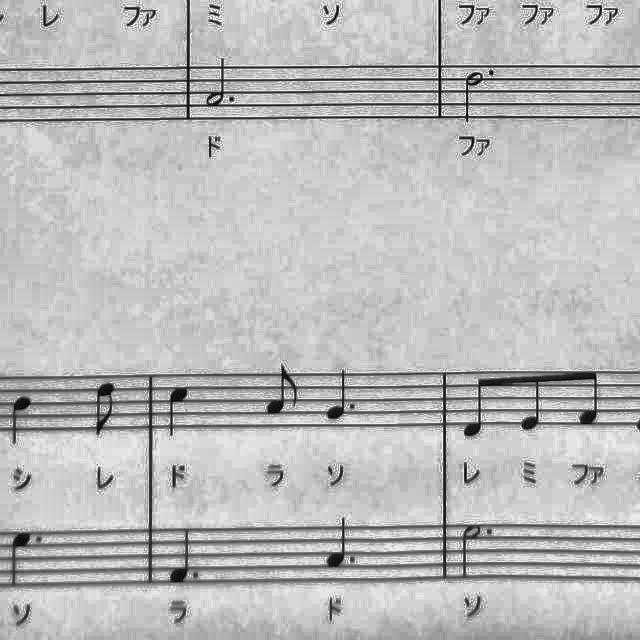Eighth-note: (455, 371, 493, 443), (260, 361, 304, 421), (517, 371, 553, 437), (572, 366, 606, 434), (88, 380, 124, 444)
Half-dot: (455, 520, 497, 584), (459, 63, 501, 125), (202, 54, 242, 112)
Quarter-dot: (4, 526, 51, 594), (164, 522, 206, 586), (321, 514, 364, 576), (321, 370, 364, 426)
Quarter-note: (2, 390, 38, 450), (164, 382, 196, 438)
